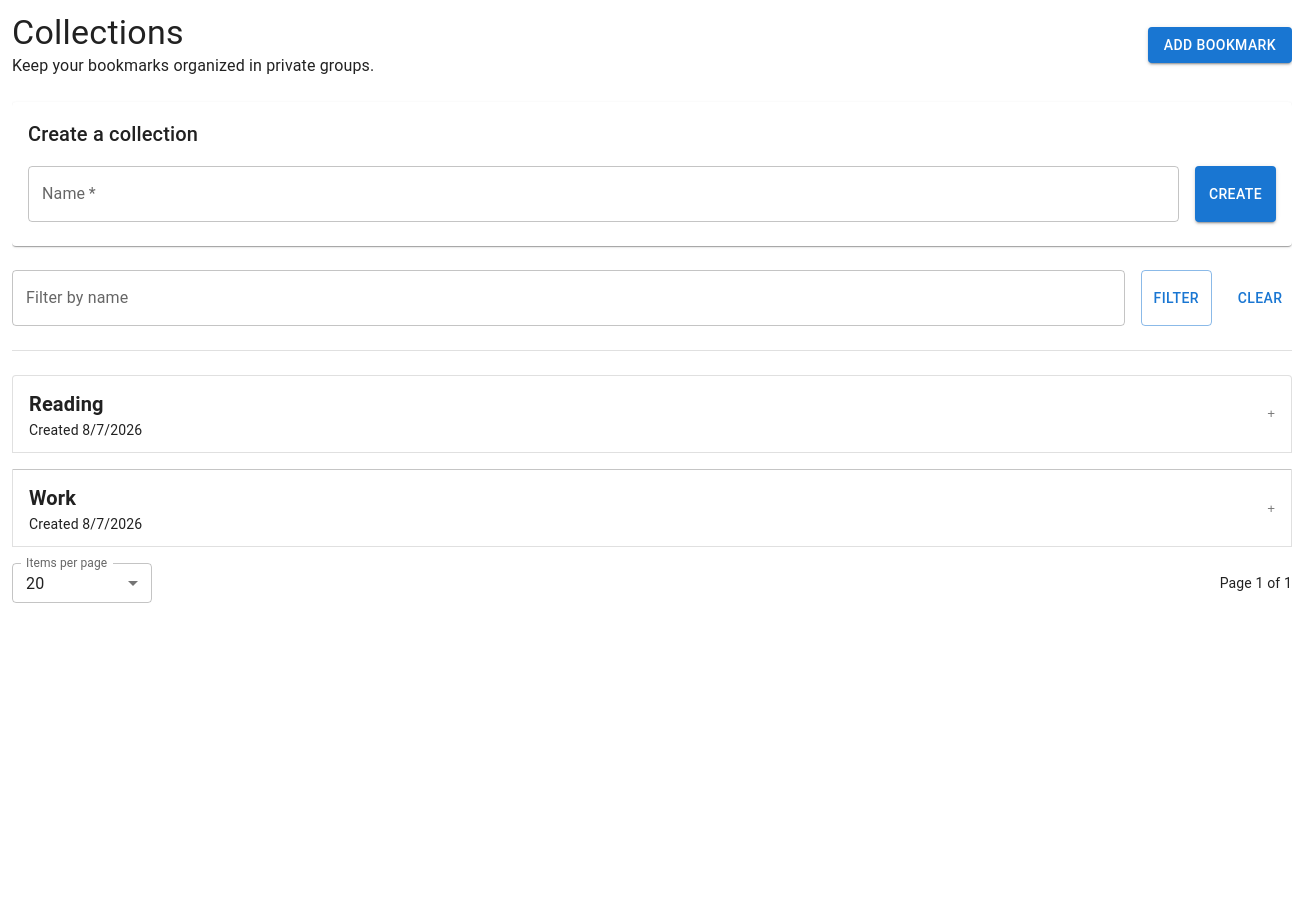
Scenario: CollectionsPage › shows nested errors inside the expanded collection without hiding other collections
Expected: the heading "Reading" is shown, [29,392,104,416]
Click the button "Reading Created 8/7/2026 +" at (66, 404), box [13,376,1291,452]
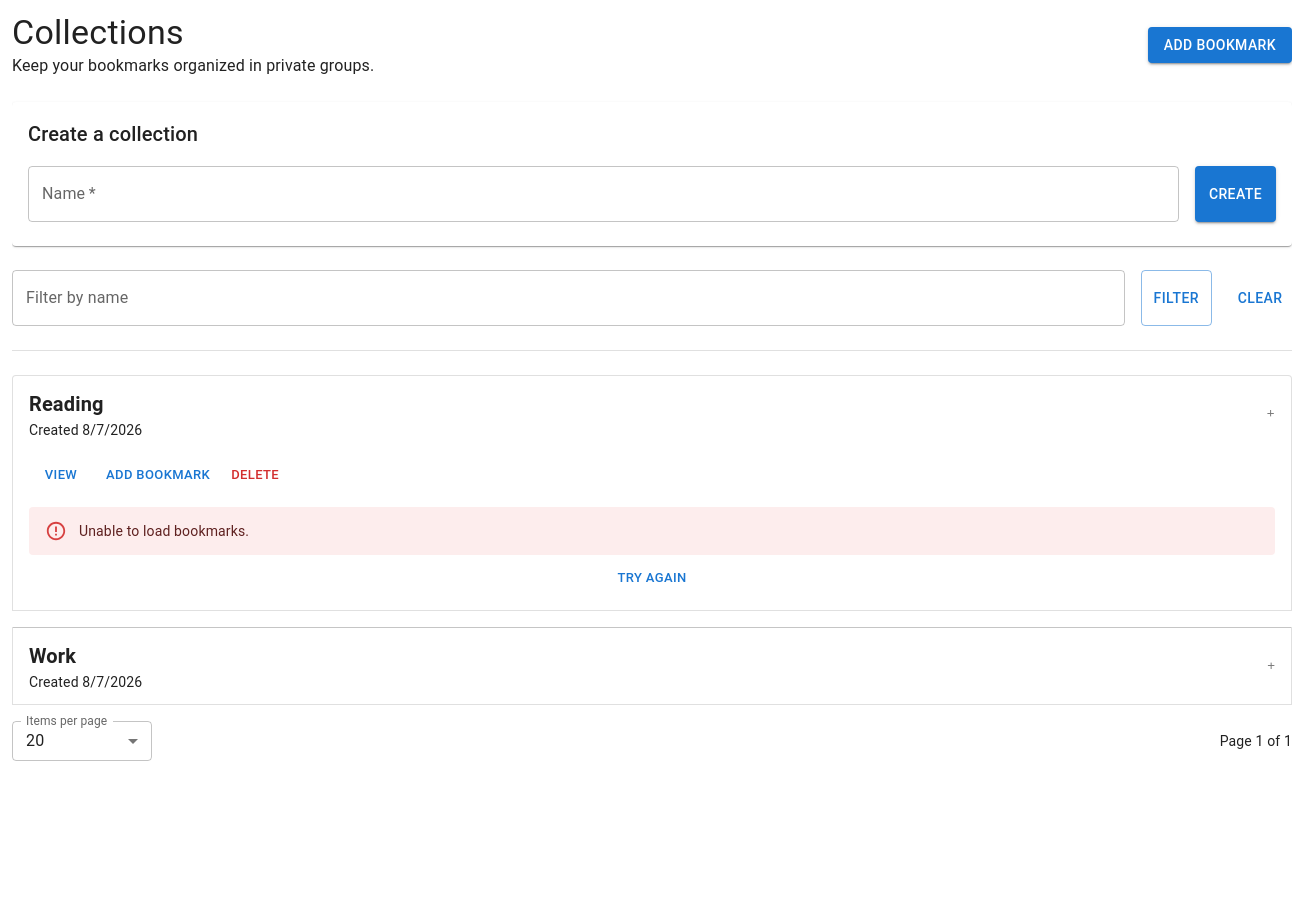
Expected: the heading "Work" is shown, [29,644,76,668]
Expected: the text "Unable to load bookmarks." is shown, [79,523,249,539]
